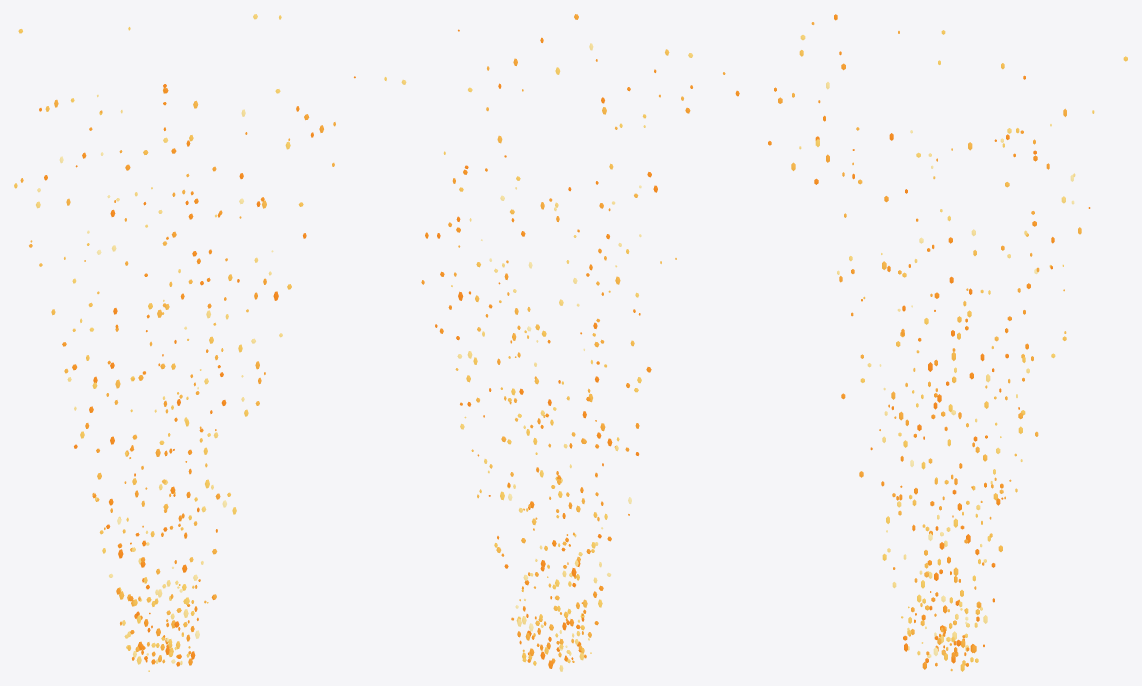
Rendered from embers.glb.
3 renders of one model, left to right at view 1: azimuth 30°, elevation 25°; view 2: azimuth 150°, elevation 25°; view 3: azimuth 270°, elevation 25°, orthographic. The views are drawn at different scales.
Size of the model in its own units: 45.04 by 90.41 by 49.7.
